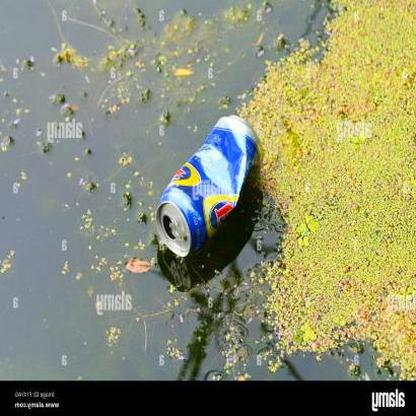can: (154, 115, 258, 260)
